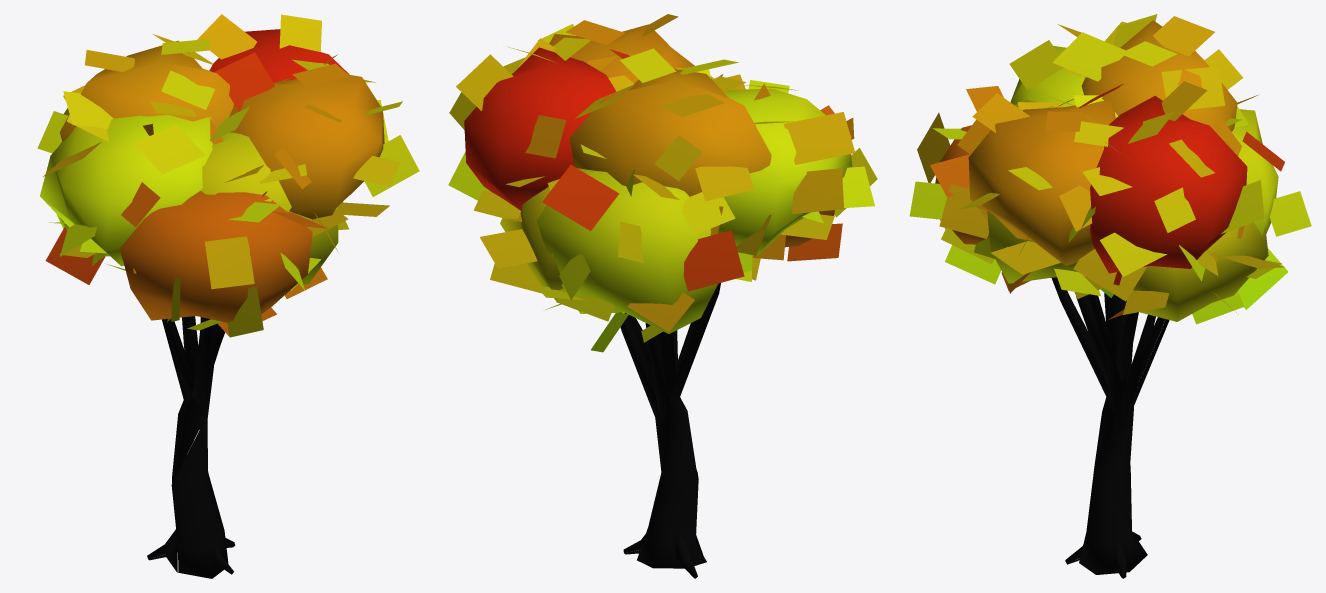
File: tree_broadleaf_lod1.glb
The picture shows the model from 3 angles, left to right: view 1: azimuth 30°, elevation 25°; view 2: azimuth 150°, elevation 25°; view 3: azimuth 270°, elevation 25°; orthographic projection.
Parts seen in each view (by area): view 1: foliage_painted_crown, foliage_leaf_sprays, bark_branching_trunk; view 2: foliage_painted_crown, foliage_leaf_sprays, bark_branching_trunk; view 3: foliage_painted_crown, foliage_leaf_sprays, bark_branching_trunk.
Part boxes in pixels (<box>): foliage_painted_crown: <box>40,29,384,322</box>; foliage_leaf_sprays: <box>37,14,419,337</box>; bark_branching_trunk: <box>147,316,235,578</box>; foliage_painted_crown: <box>464,24,852,333</box>; foliage_leaf_sprays: <box>448,14,877,352</box>; bark_branching_trunk: <box>620,283,720,578</box>; foliage_painted_crown: <box>935,20,1278,321</box>; foliage_leaf_sprays: <box>909,14,1311,324</box>; bark_branching_trunk: <box>1051,277,1169,578</box>.
Size of the model in its own units: 3.96 by 5.17 by 3.67.
